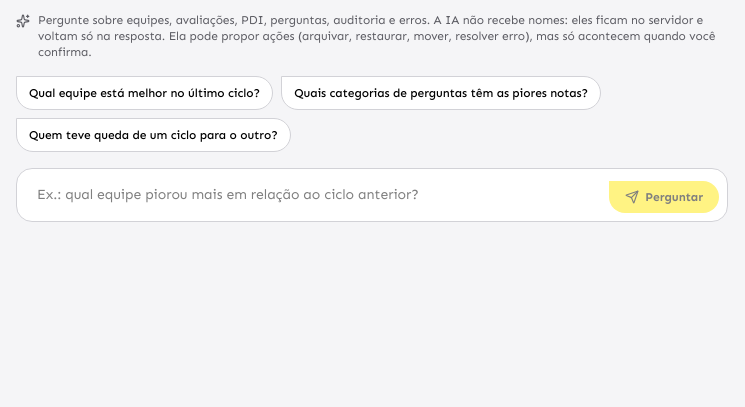
Scenario: AssistantView › se a execução falhar, mostra o erro e deixa confirmar de novo
Type "Restaure o Davi" into the text box named "Pergunte sobre os dados". click: coordinates (313, 195)
box: [25,177,601,213]
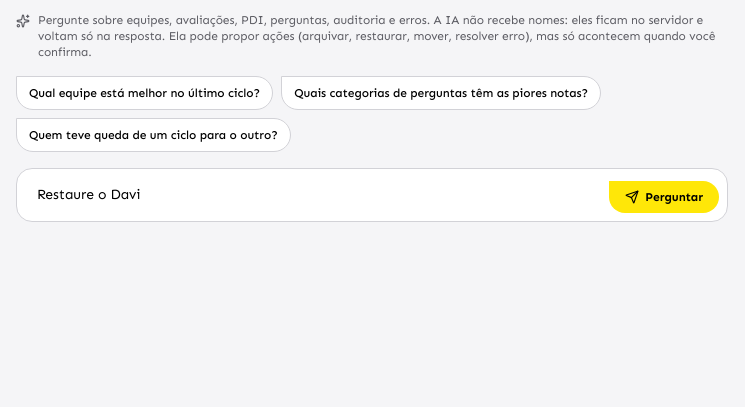
Click the button "Perguntar". click: coordinates (664, 197)
box: [609,181,719,213]
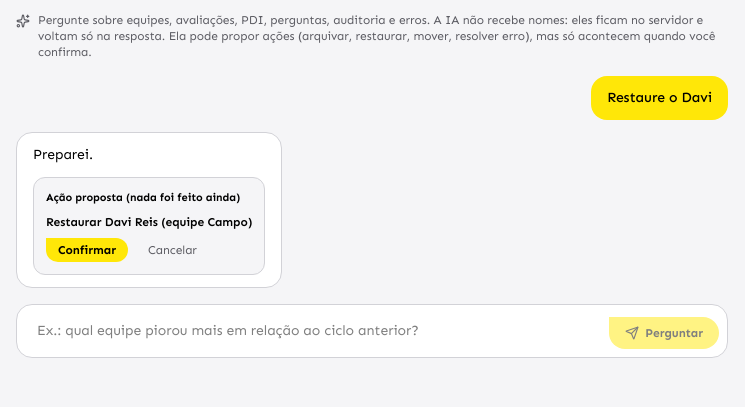
expect the text "Restaurar Davi Reis (equipe Campo)" is shown: met, box [46,214,252,230]
Click the button "Confirmar". click: coordinates (87, 250)
box: [46,238,128,262]
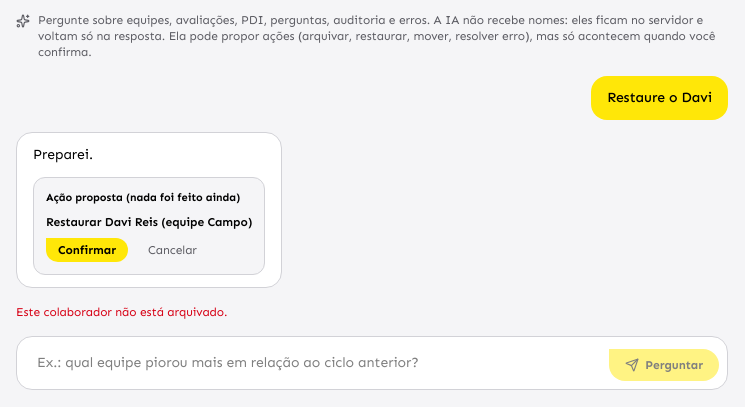
expect the button "Confirmar" is enabled: met, box [46,238,128,262]
expect the message reads "Este colaborador não está arquivado.": met, box [16,305,228,319]
